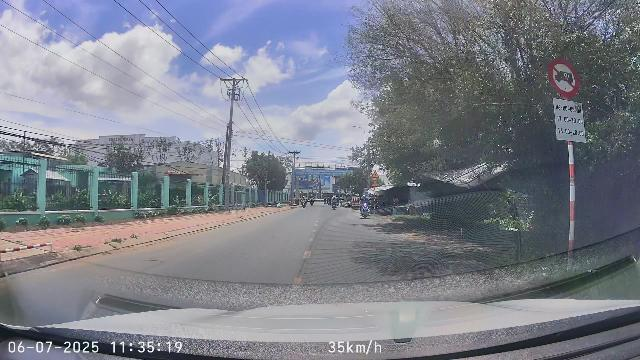106-cam-oto-tai: (549, 59, 578, 97)
